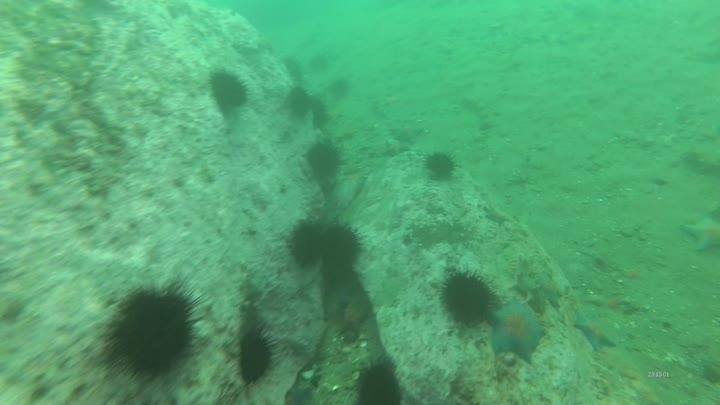echinus: (101, 280, 205, 382), (437, 267, 498, 329), (316, 218, 365, 276), (234, 328, 278, 386), (352, 358, 405, 405), (285, 217, 330, 270), (207, 68, 251, 115), (303, 138, 344, 180), (422, 149, 459, 183), (283, 85, 314, 120), (307, 94, 331, 131), (326, 76, 353, 102), (281, 54, 306, 82), (307, 51, 332, 75)
holothurian: (507, 254, 552, 315), (408, 213, 479, 248)
starfish: (486, 298, 548, 364), (519, 244, 563, 307), (572, 309, 620, 353), (679, 208, 720, 257), (334, 289, 373, 336), (388, 119, 426, 146), (587, 290, 630, 312), (282, 382, 318, 404), (481, 203, 511, 226)
